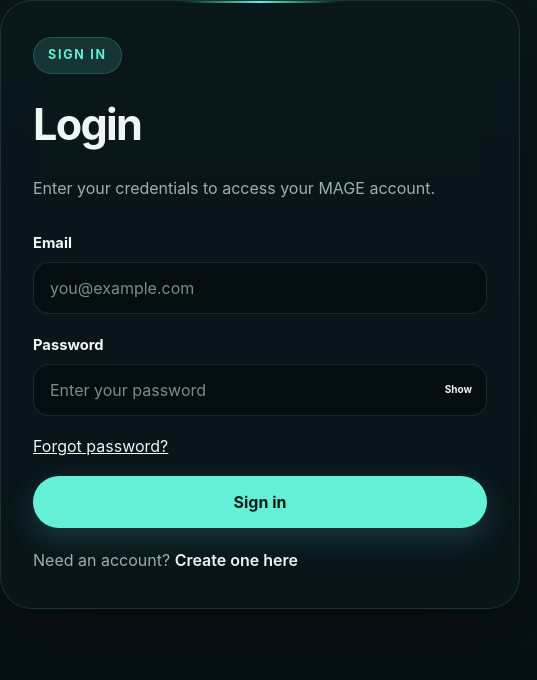
Scenario: LoginPage › maps backend validation details onto the form fields
This screenshot has width=537, height=680.
Type " user@example.com " into the field labelled "Email" at x=260, y=288, box [33,262,487,314]
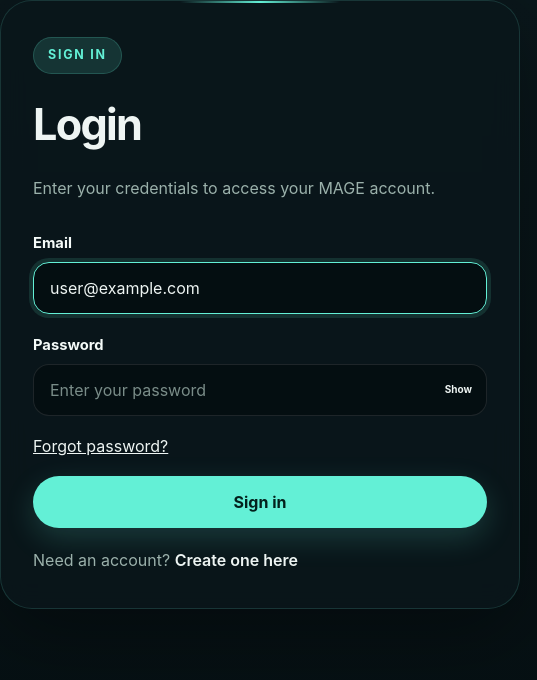
Type "secret-value" into the password field labelled "Password" at x=260, y=390, box [33,364,487,416]
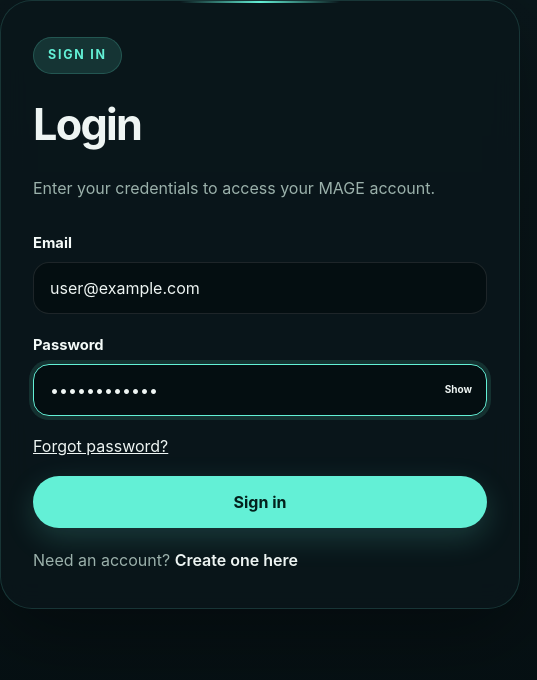
Click the button "Sign in" at x=260, y=502, box [33,476,487,528]
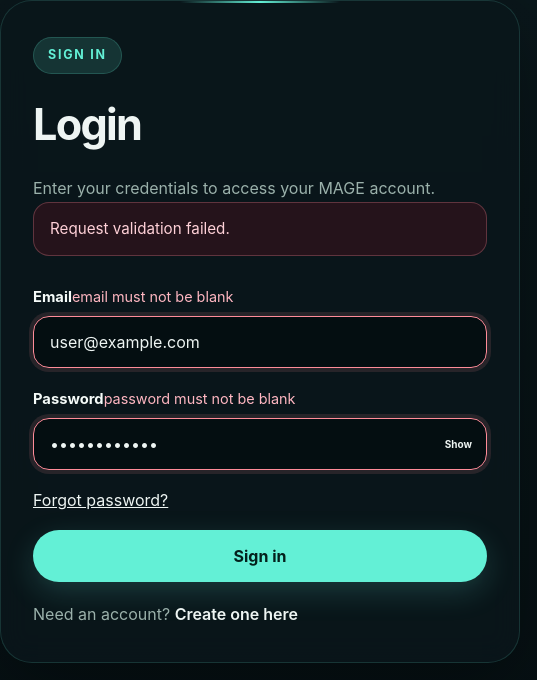
Expected: the text "email must not be blank" is shown, [72,288,233,305]
Expected: the text "password must not be blank" is shown, [104,390,295,407]
